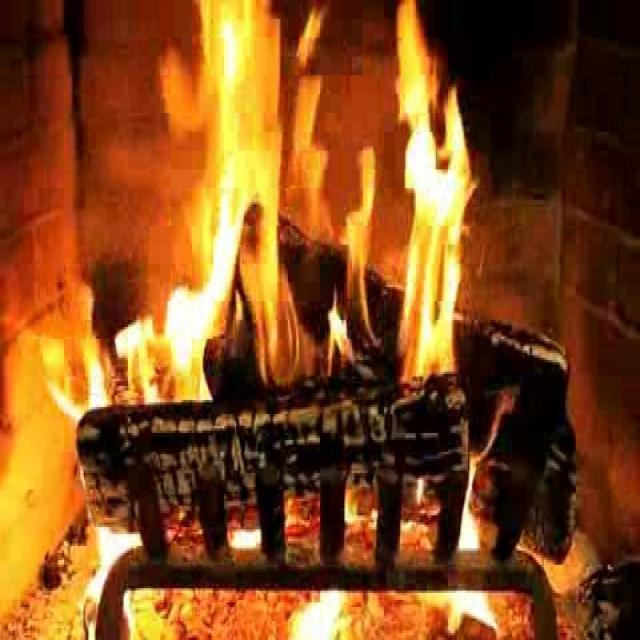Fire: (161, 9, 464, 418)
